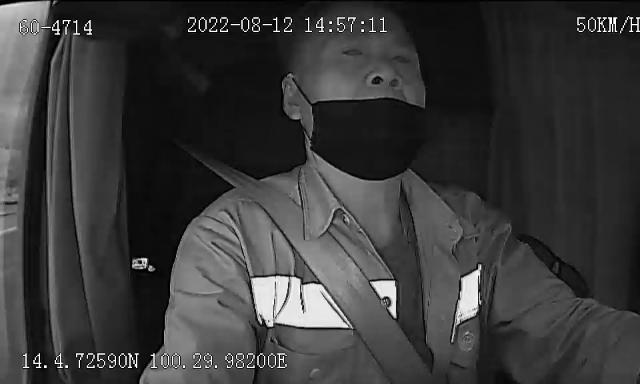Seatbelt: (217, 167, 431, 384)
